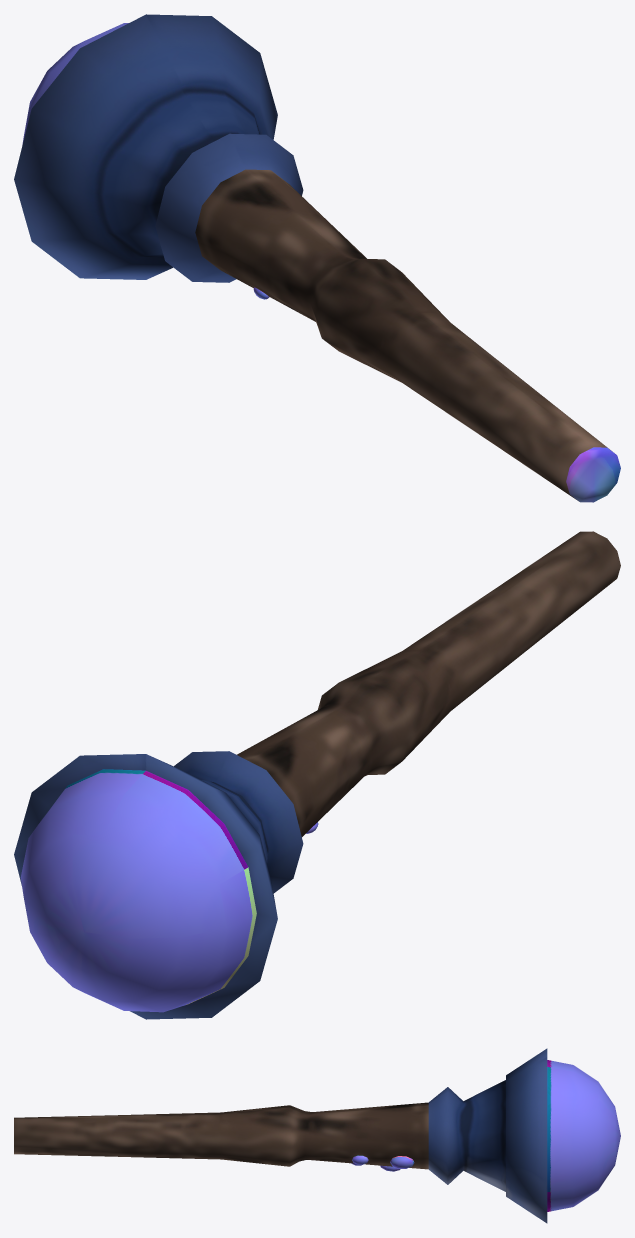
The model's file is baston.dae.
3 views of the same model, one above another, from view 1: azimuth 30°, elevation 25°; view 2: azimuth 150°, elevation 25°; view 3: azimuth 270°, elevation 25° (orthographic). The views are drawn at different scales.
Visible parts, largest first — view 1: Sphere.002, Sphere.003, Sphere.001, Sphere.004; view 2: Sphere.004, Sphere.003, Sphere.002; view 3: Sphere.003, Sphere.002, Sphere.004, Sphere.001.
Part boxes in pixels (bbox=[...]): Sphere.002: bbox=[14, 14, 303, 282]; Sphere.003: bbox=[195, 169, 612, 500]; Sphere.001: bbox=[253, 287, 620, 502]; Sphere.004: bbox=[22, 23, 128, 143]; Sphere.004: bbox=[20, 769, 256, 1012]; Sphere.003: bbox=[237, 531, 620, 836]; Sphere.002: bbox=[14, 751, 303, 1019]; Sphere.003: bbox=[14, 1102, 428, 1169]; Sphere.002: bbox=[428, 1048, 547, 1223]; Sphere.004: bbox=[547, 1060, 620, 1211]; Sphere.001: bbox=[351, 1155, 414, 1171].
Size of the model in its own units: 2.09 by 6.98 by 2.01.
4 materials, 4 textured.
